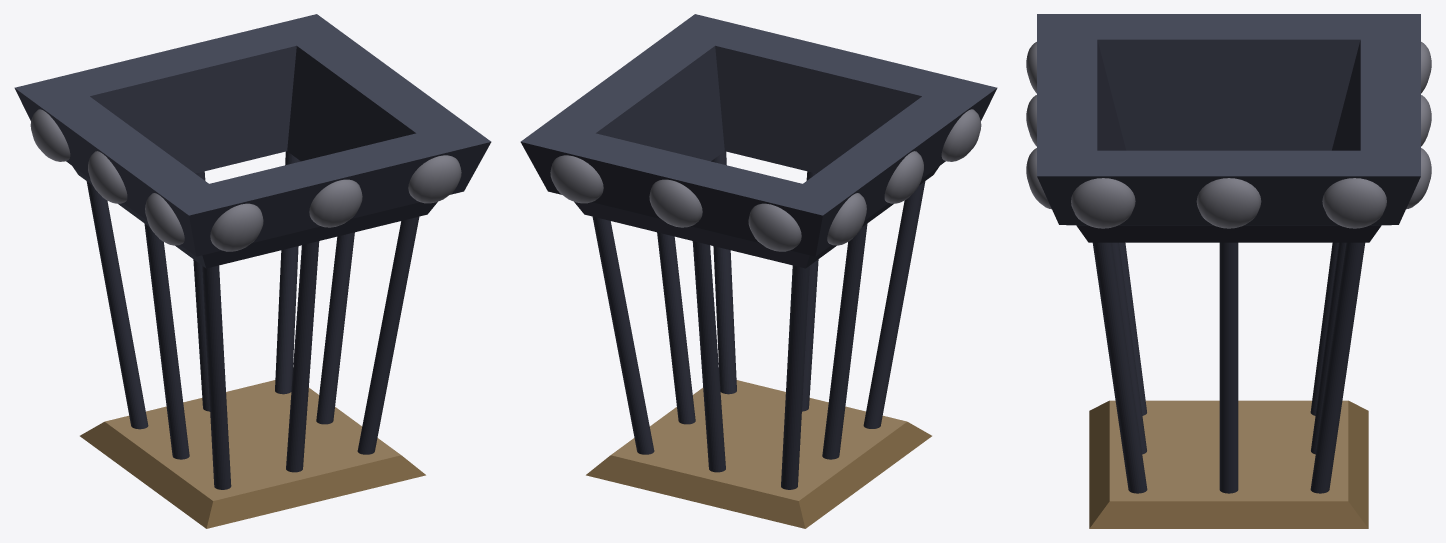
File: prison.fbx
3 renders of one model, left to right at view 1: azimuth 30°, elevation 25°; view 2: azimuth 150°, elevation 25°; view 3: azimuth 270°, elevation 25°, orthographic. The views are drawn at different scales.
Visible parts, largest first — view 1: Top, Bottom; view 2: Top, Bottom; view 3: Top, Bottom.
Boxes of the visible parts, bbox=[...] form: Top: bbox=[14, 14, 491, 489]; Bottom: bbox=[80, 380, 425, 528]; Top: bbox=[520, 14, 997, 489]; Bottom: bbox=[586, 380, 931, 528]; Top: bbox=[1026, 14, 1431, 493]; Bottom: bbox=[1089, 400, 1368, 528].
Size of the model in its own units: 2.9 by 2.96 by 2.9.
